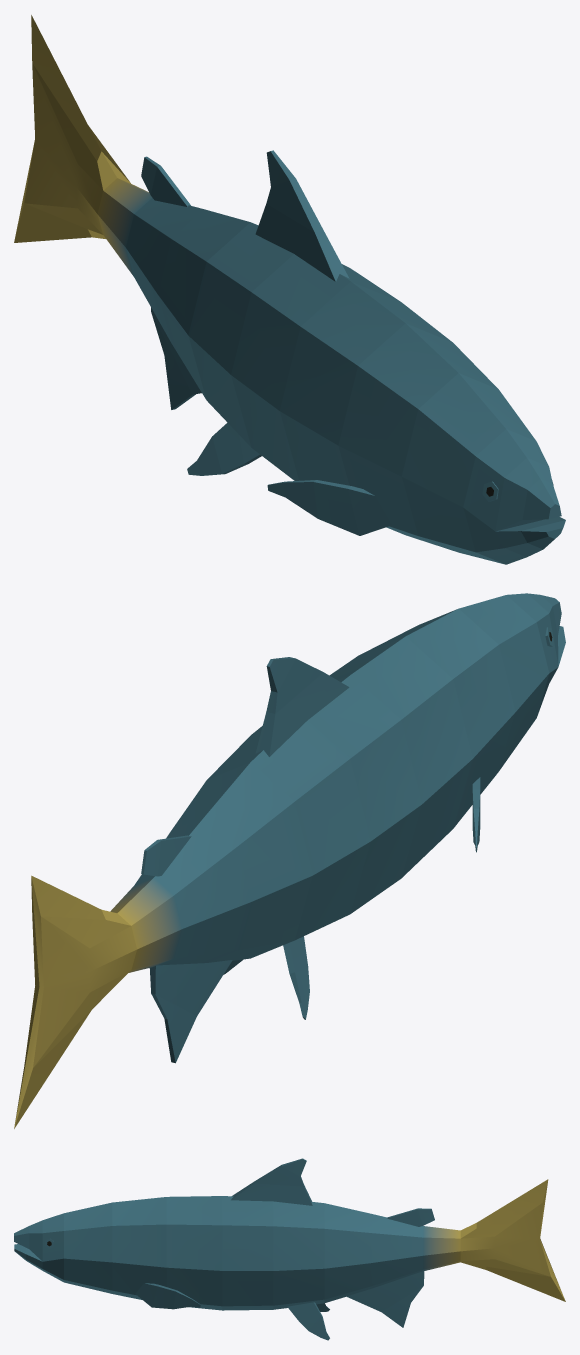
Rendered from reef-fish.glb.
The picture shows the model from 3 angles, top to bottom: view 1: azimuth 30°, elevation 25°; view 2: azimuth 150°, elevation 25°; view 3: azimuth 270°, elevation 25°; orthographic projection. The views are drawn at different scales.
Parts seen in each view (by area): view 1: reef-fish; view 2: reef-fish; view 3: reef-fish.
Part boxes in pixels (<box>): reef-fish: <box>14,15,565,564</box>; reef-fish: <box>14,593,565,1128</box>; reef-fish: <box>14,1158,565,1340</box>.
Bounding box in the file's own units: 0.0626 × 0.0945 × 0.28.
